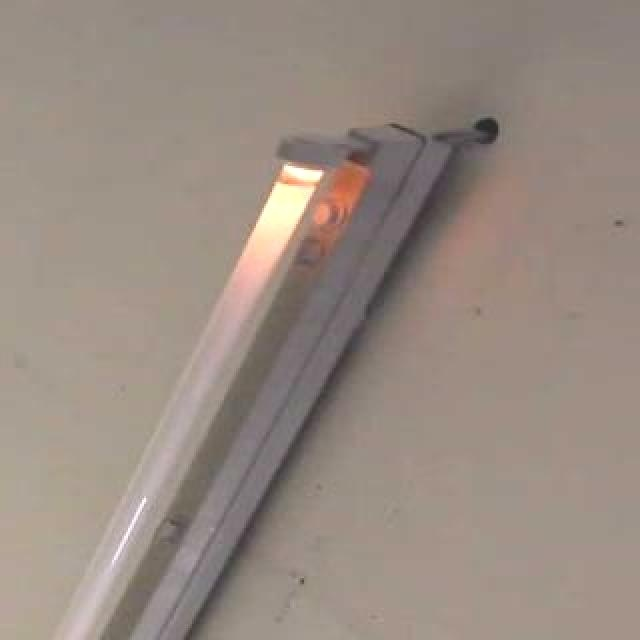fluorescent tube: (0, 80, 500, 640)
